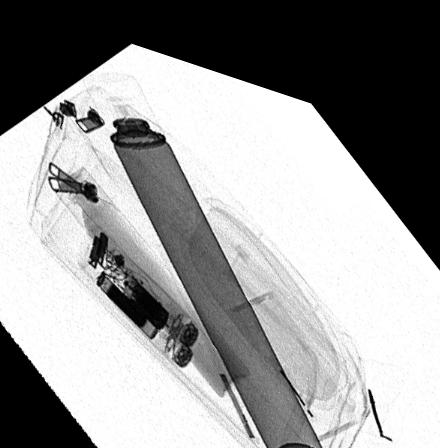Sprayer: (82, 65, 327, 448)
